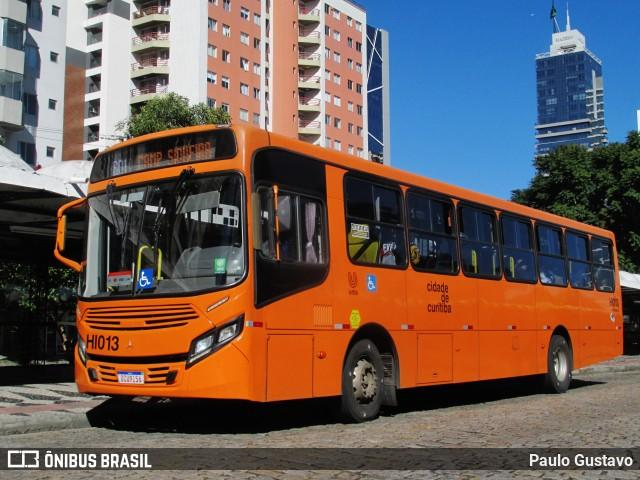CAMP. SIQUEIRA: (131, 138, 220, 177)
